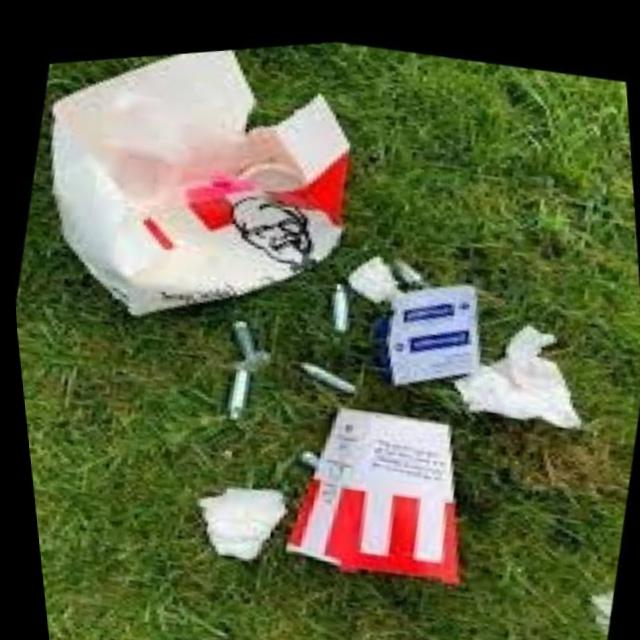food: (156, 436, 302, 585), (331, 223, 421, 315)
leaf: (368, 249, 506, 398), (265, 328, 379, 403), (212, 350, 266, 427)
trash: (0, 12, 401, 373), (261, 361, 507, 612), (437, 286, 603, 467)
